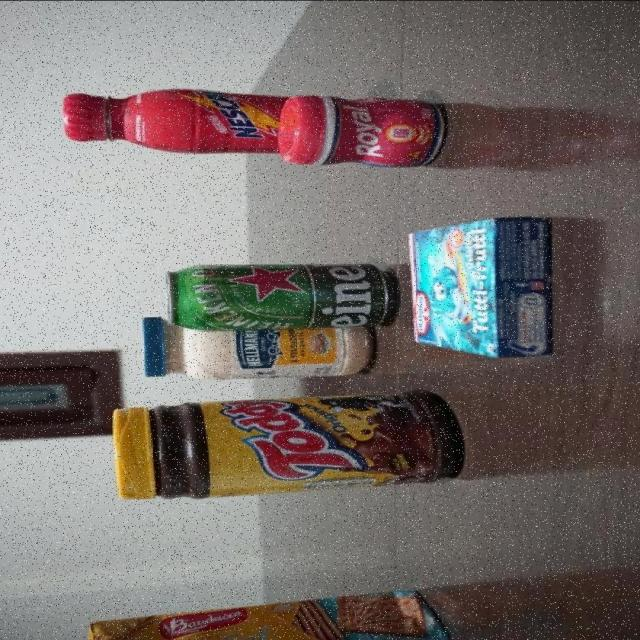BeerCan: (172, 262, 393, 328)
ChocolateMilk: (53, 82, 290, 156)
ChocolatePowder: (116, 389, 465, 503)
Cracker: (82, 589, 442, 640)
Gelatine: (414, 210, 550, 356)
Mayonnaise: (139, 314, 370, 383)
Yeast: (274, 96, 445, 168)
